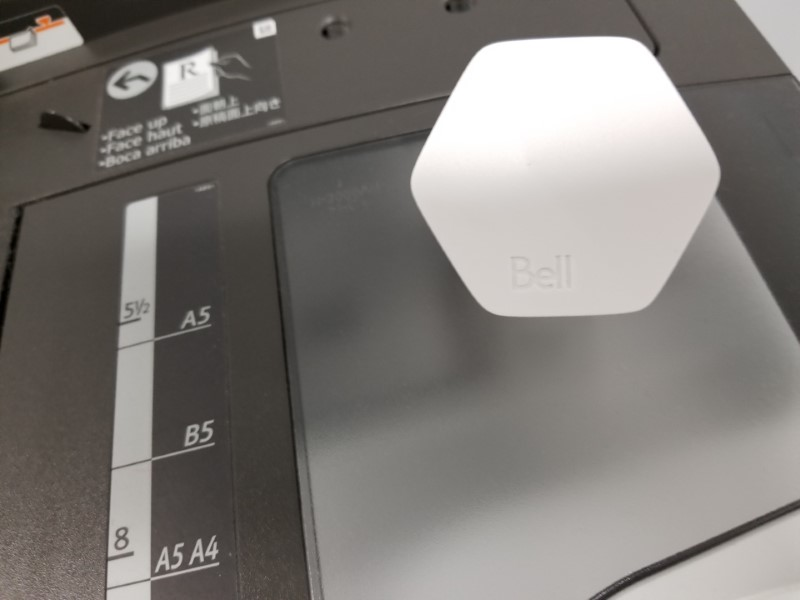pod: (405, 33, 723, 324)
